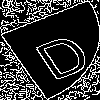D: (25, 25, 96, 82)
